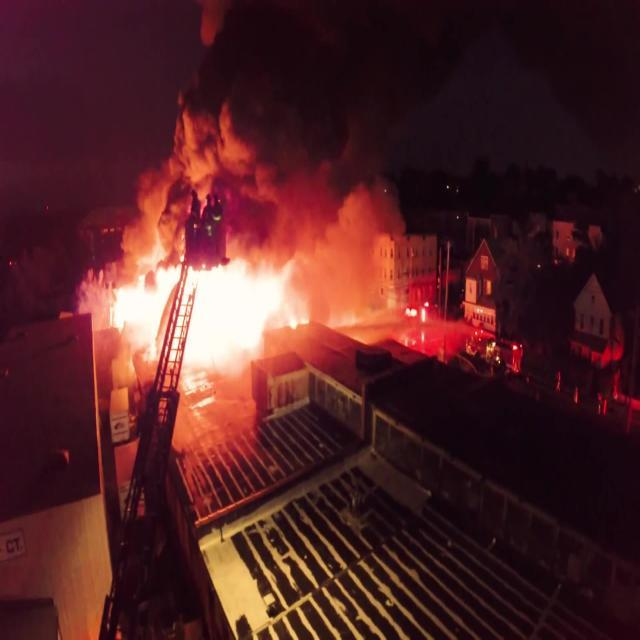Fire: (104, 250, 302, 380)
Smoke: (114, 4, 416, 258)
